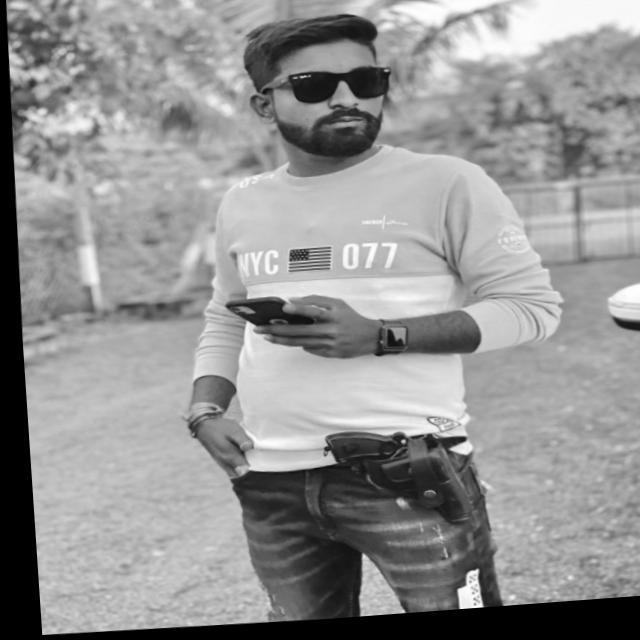weapon: (306, 423, 483, 542)
